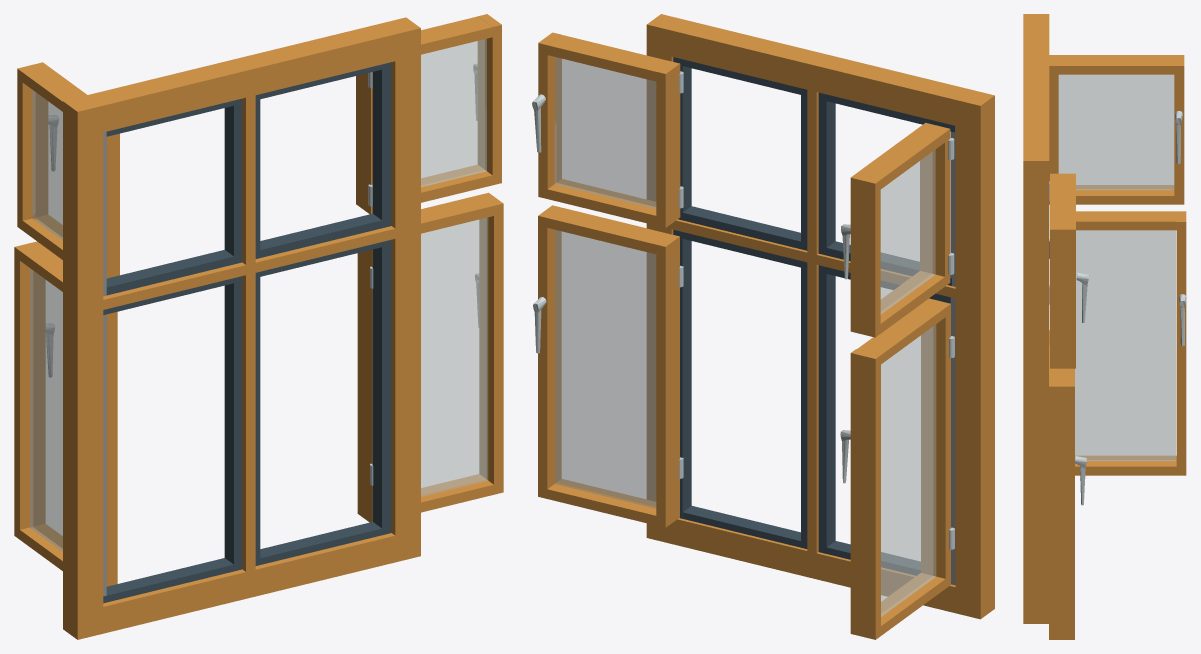
Rendered from window.glb.
3 renders of one model, left to right at view 1: azimuth 30°, elevation 25°; view 2: azimuth 150°, elevation 25°; view 3: azimuth 270°, elevation 25°, orthographic. The views are drawn at different scales.
Parts seen in each view (by area): view 1: group1364249068, group2040139540, group16316211, group916610481, group279100259, group882742281, group1250263669, group1095300195, group145911502, group168669120, group564018101, group1941295683 (+6 smaller); view 2: group1364249068, group16316211, group916610481, group2040139540, group1250263669, group279100259, group168669120, group1095300195, group564018101, group145911502, group882742281, group1941295683 (+6 smaller); view 3: group16316211, group1250263669, group882742281, group1364249068, group916610481, group279100259, group1095300195.
Part boxes in pixels (box(x1,y1,x2,y2)): group1364249068: box(357, 192, 503, 522); group2040139540: box(63, 122, 103, 629); group16316211: box(14, 241, 117, 586); group916610481: box(356, 14, 501, 214); group279100259: box(63, 17, 420, 134); group882742281: box(391, 53, 420, 535); group1250263669: box(17, 62, 119, 278); group1095300195: box(63, 529, 420, 639); group145911502: box(372, 62, 391, 528); group168669120: box(224, 98, 242, 564); group564018101: box(242, 90, 255, 578); group1941295683: box(106, 213, 381, 295); group1364249068: box(533, 205, 683, 527); group16316211: box(840, 298, 954, 639); group916610481: box(532, 32, 683, 227); group2040139540: box(955, 121, 994, 608); group1250263669: box(841, 122, 954, 337); group279100259: box(646, 14, 994, 131); group168669120: box(818, 99, 835, 553); group1095300195: box(646, 518, 994, 619); group564018101: box(807, 90, 818, 553); group145911502: box(673, 65, 691, 518); group882742281: box(646, 50, 673, 501); group1941295683: box(678, 206, 951, 285); group16316211: box(1049, 211, 1186, 475); group1250263669: box(1049, 55, 1184, 204); group882742281: box(1023, 182, 1049, 600); group1364249068: box(1049, 330, 1086, 639); group916610481: box(1049, 173, 1089, 368); group279100259: box(1023, 14, 1049, 184); group1095300195: box(1023, 600, 1048, 623).
Bounding box in the file's own units: 2.17 × 2.49 × 0.7941.
